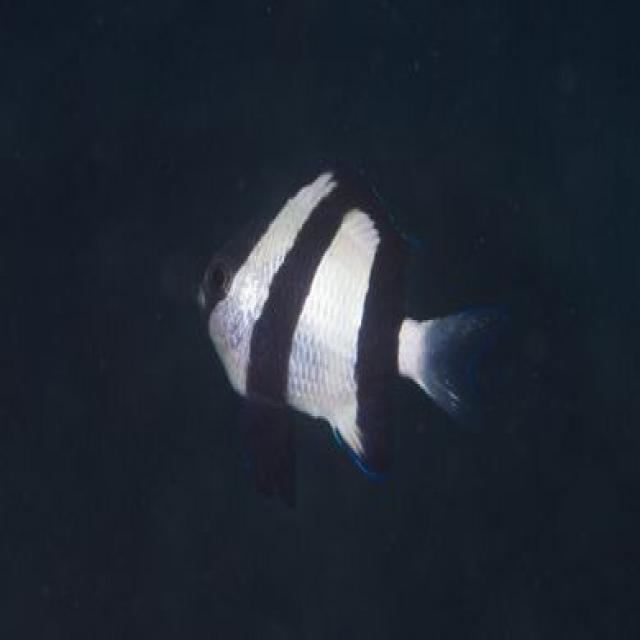Three_striped DasmselFish: (193, 154, 498, 467)
